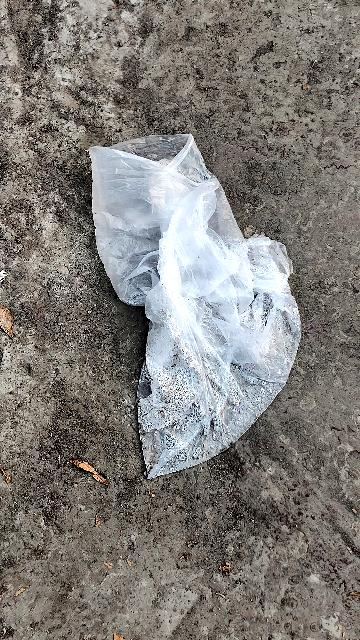polythene: (70, 122, 314, 486)
